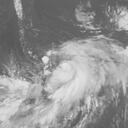cyclone: (44, 35, 124, 106)
